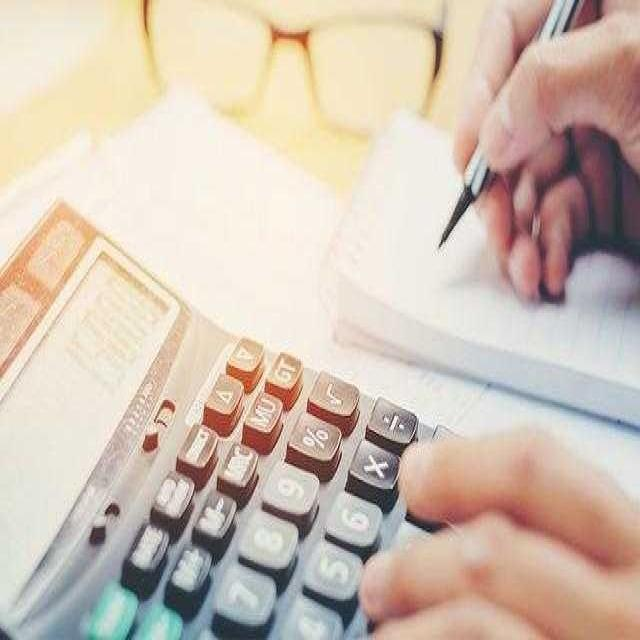Calculator: (0, 197, 425, 638)
